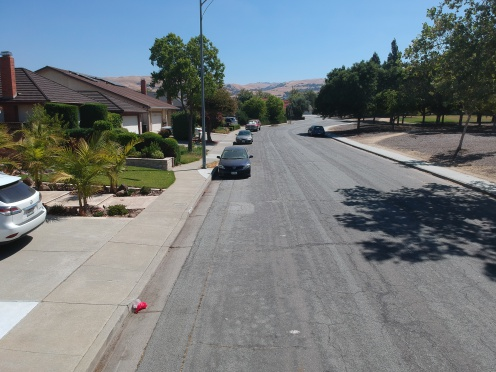plastic bag: (124, 297, 152, 314)
